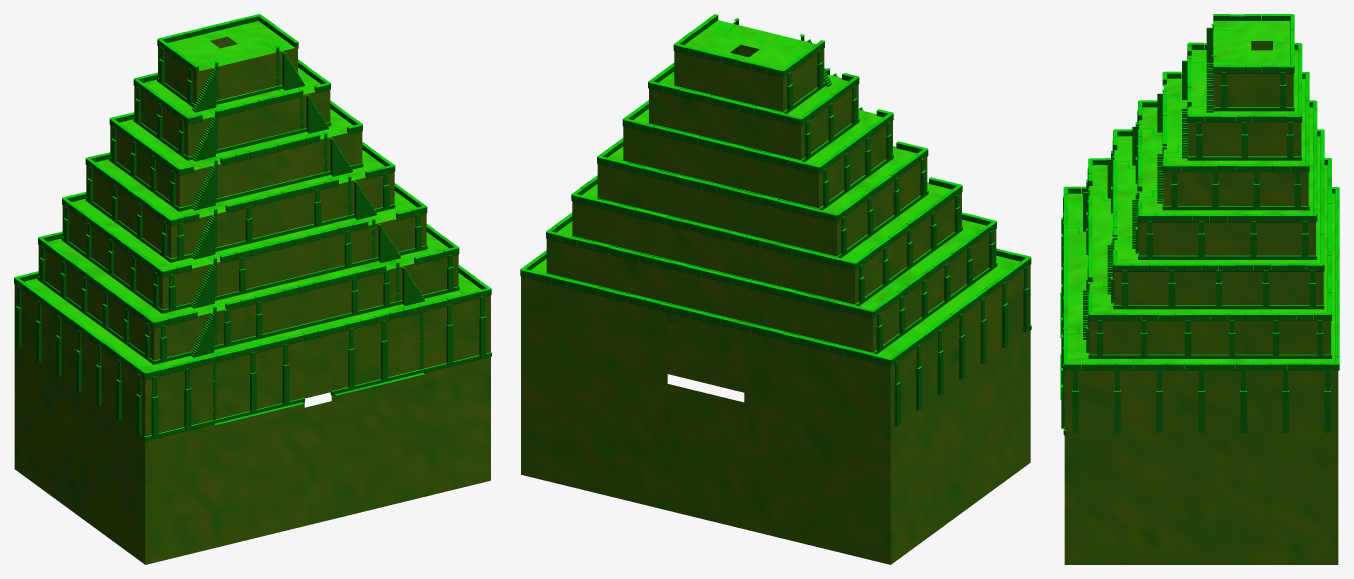
File: ashcrown_tiers.glb
The picture shows the model from 3 angles, left to right: view 1: azimuth 30°, elevation 25°; view 2: azimuth 150°, elevation 25°; view 3: azimuth 270°, elevation 25°; orthographic projection. The views are drawn at different scales.
Parts seen in each view (by area): view 1: ashcrown_tiers; view 2: ashcrown_tiers; view 3: ashcrown_tiers.
Boxes of the visible parts, x1,y1,x2,y2 form: ashcrown_tiers: (14,14,491,564); ashcrown_tiers: (520,14,1031,564); ashcrown_tiers: (1060,14,1339,564).
Size of what is drawn, in the model's own units: 58.9 by 66.84 by 38.74.
